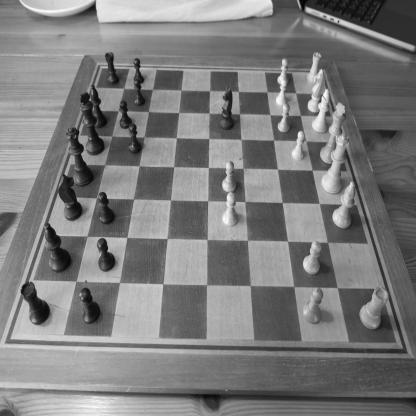black-bishop: (44, 222, 71, 273), (90, 84, 107, 128)
black-king: (79, 92, 104, 156)
black-knight: (58, 172, 83, 221), (219, 86, 234, 130)
black-pawn: (78, 286, 101, 325), (96, 238, 115, 272), (97, 191, 115, 225), (127, 122, 142, 154), (133, 77, 146, 107), (119, 99, 132, 129), (132, 57, 145, 84)
black-queen: (66, 127, 93, 186)
black-rook: (20, 281, 50, 325), (104, 51, 120, 86)
white-bishop: (332, 181, 356, 230), (311, 88, 331, 133)
white-king: (320, 102, 347, 165)
white-knight: (307, 68, 326, 114)
white-pawn: (302, 287, 324, 324), (302, 240, 321, 276), (222, 192, 238, 227), (222, 160, 236, 193), (292, 130, 305, 161), (275, 78, 288, 106), (278, 104, 290, 133), (277, 58, 289, 85)
white-queen: (321, 134, 349, 195)
white-rook: (359, 286, 389, 330), (306, 52, 322, 84)
